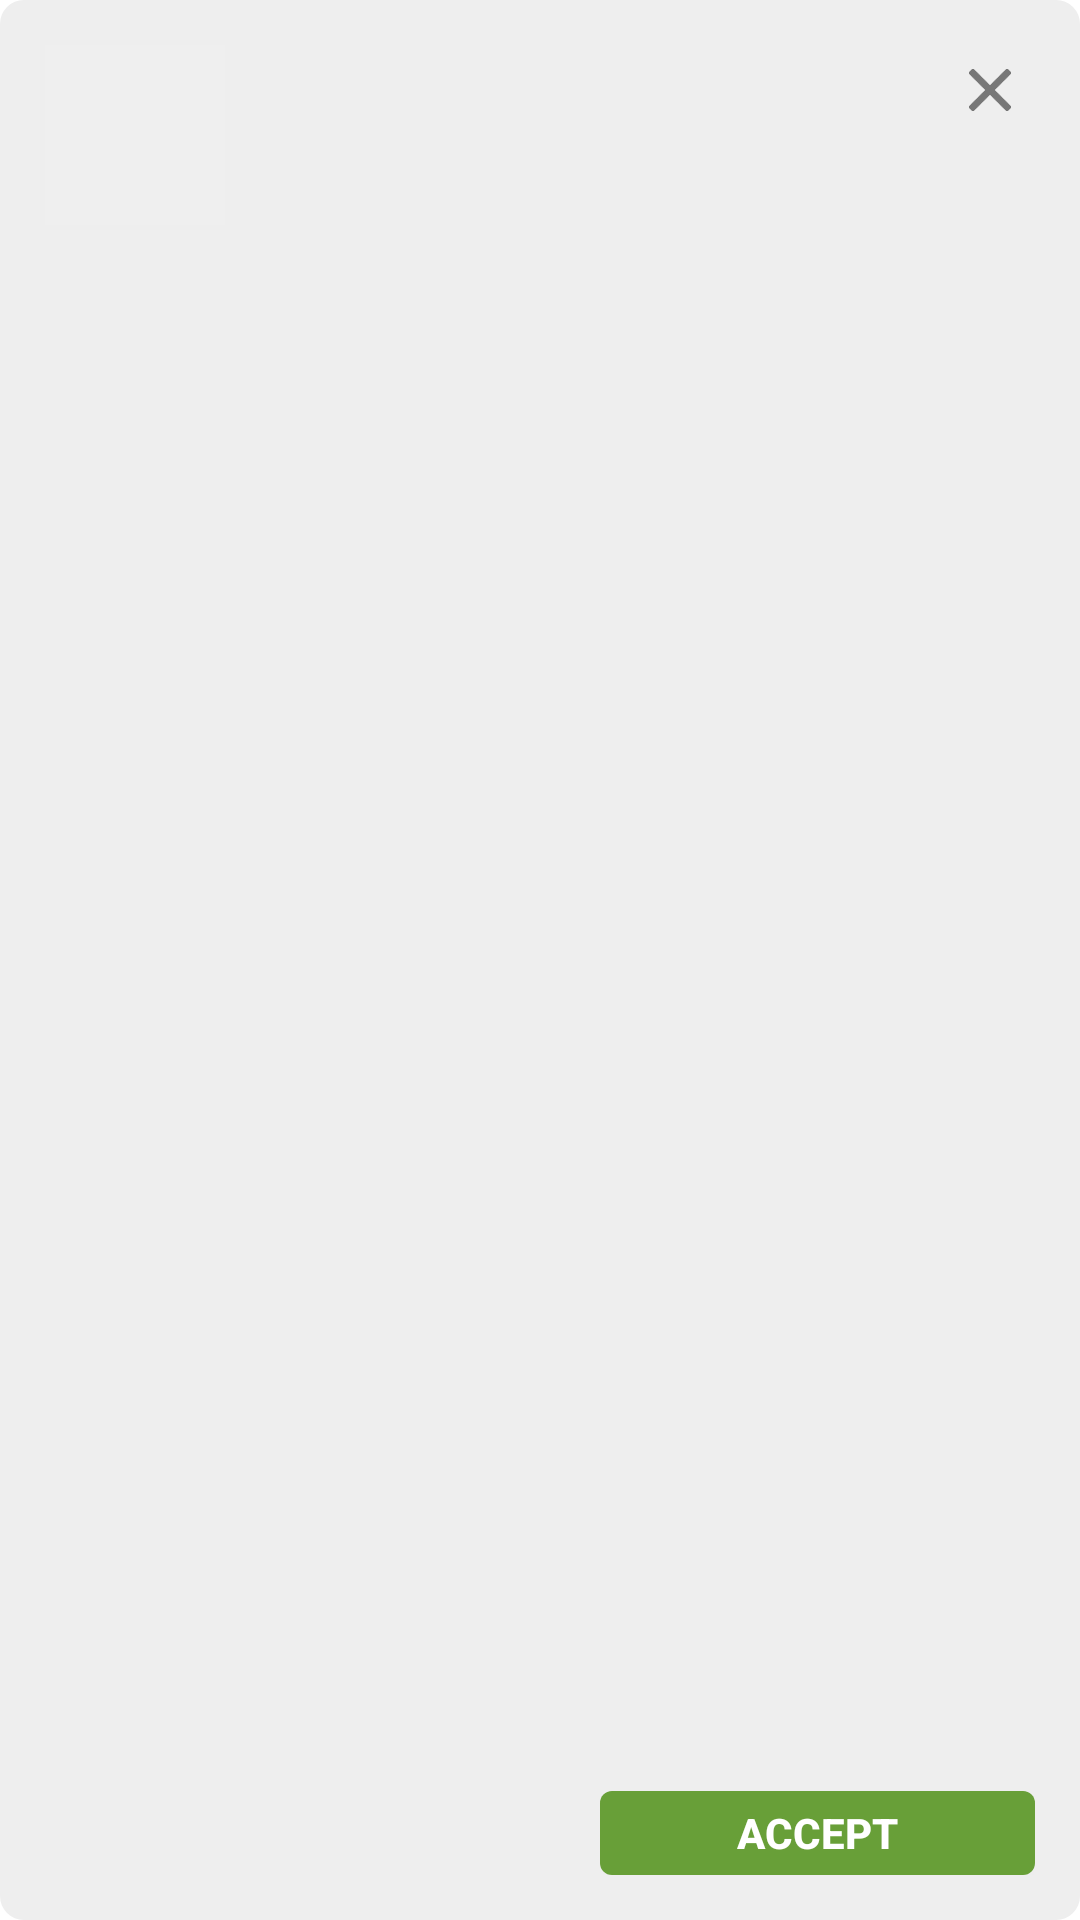

Screen size 1080px x 1920px. Icon name, then its center in pixels as (x=x, y=y):
close: (x=990, y=90)
